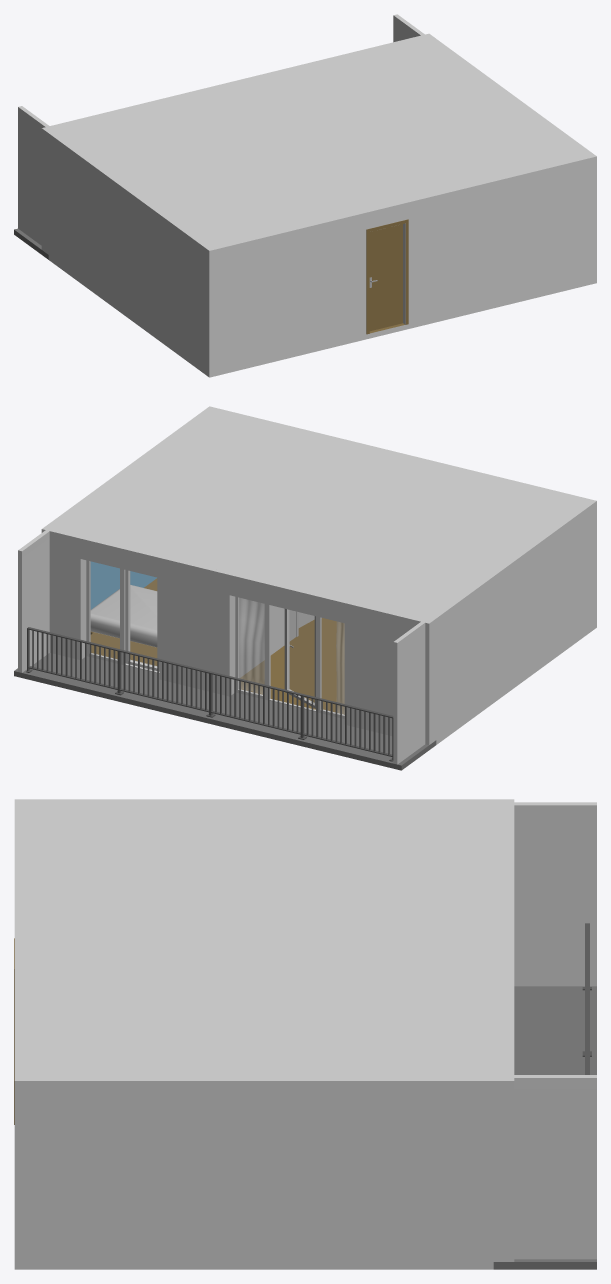
File: Appt1.fbx
3 views of the same model, one above another, from view 1: azimuth 30°, elevation 25°; view 2: azimuth 150°, elevation 25°; view 3: azimuth 270°, elevation 25° (orthographic). The views are drawn at different scales.
Parts seen in each view (by area): view 1: Living1, Bathroom1, Bedroom1, Facade1; view 2: Facade1, Living1, Bedroom1, Bathroom1; view 3: Bedroom1, Living1, Bathroom1, Facade1.
Boxes of the visible parts, x1,y1,x2,y2 form: Living1: (48, 81, 423, 377); Bathroom1: (360, 110, 596, 325); Bedroom1: (262, 39, 534, 151); Facade1: (14, 14, 435, 259); Facade1: (14, 524, 436, 770); Living1: (222, 449, 596, 744); Bedroom1: (49, 450, 323, 677); Bathroom1: (146, 406, 385, 495); Bedroom1: (191, 952, 493, 1269); Living1: (14, 799, 493, 1124); Bathroom1: (14, 952, 205, 1269); Facade1: (493, 799, 596, 1269).
Bounding box in the file's own units: 80 × 25 × 69.99.
